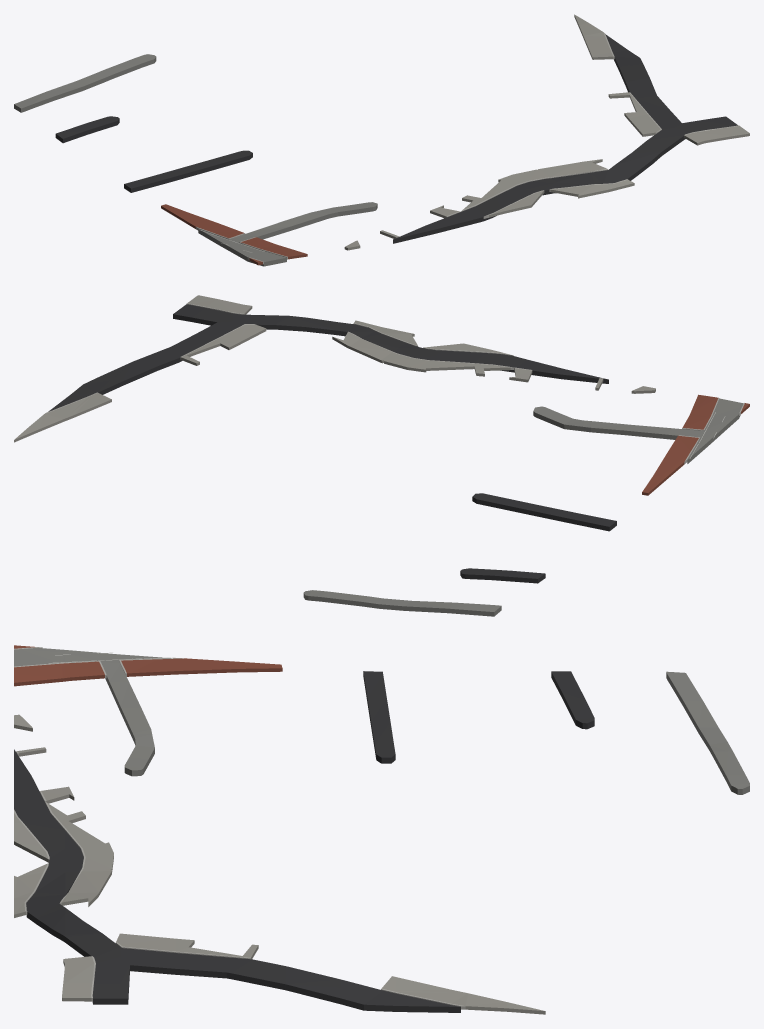
3 renders of one model, top to bottom at view 1: azimuth 30°, elevation 25°; view 2: azimuth 150°, elevation 25°; view 3: azimuth 270°, elevation 25°, orthographic. The views are drawn at different scales.
Bounding box in the file's own units: 147 × 8.24 × 133.
